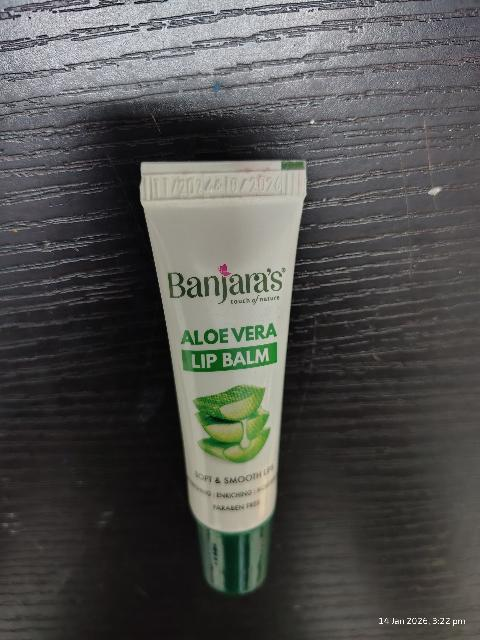banjaras lipbam: (136, 161, 308, 595)
